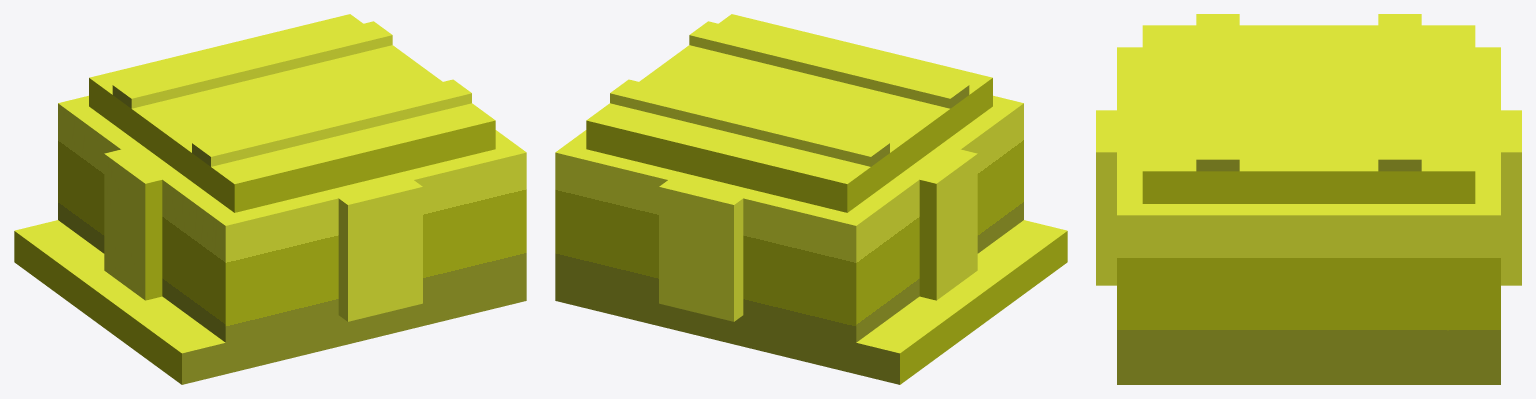
The model's file is BGN WEAR- WORKERS.fbx.
The picture shows the model from 3 angles, left to right: view 1: azimuth 30°, elevation 25°; view 2: azimuth 150°, elevation 25°; view 3: azimuth 270°, elevation 25°; orthographic projection. The views are drawn at different scales.
Visible parts, largest first — view 1: BGN_WEAR__WORKERS; view 2: BGN_WEAR__WORKERS; view 3: BGN_WEAR__WORKERS.
Part boxes in pixels (x1,y1,x2,y2): BGN_WEAR__WORKERS: [14, 14, 526, 384]; BGN_WEAR__WORKERS: [555, 14, 1067, 384]; BGN_WEAR__WORKERS: [1096, 14, 1521, 384].
Bounding box in the file's own units: 54.41 × 28.21 × 50.84.
Materials: 1 (1 with a texture image).
